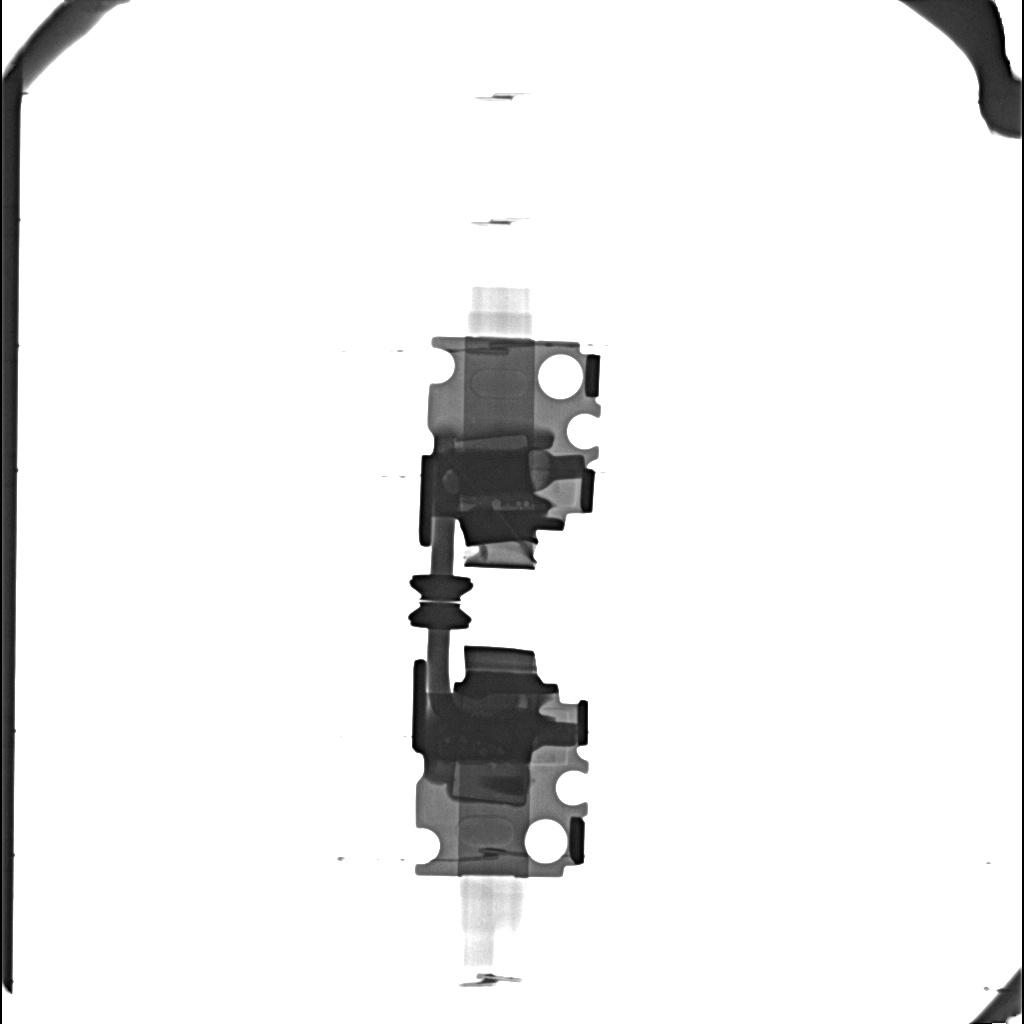气孔: (449, 764, 531, 807), (452, 432, 531, 448)
气泡: (516, 695, 529, 708)
水纹: (431, 718, 538, 762), (439, 449, 533, 496)
